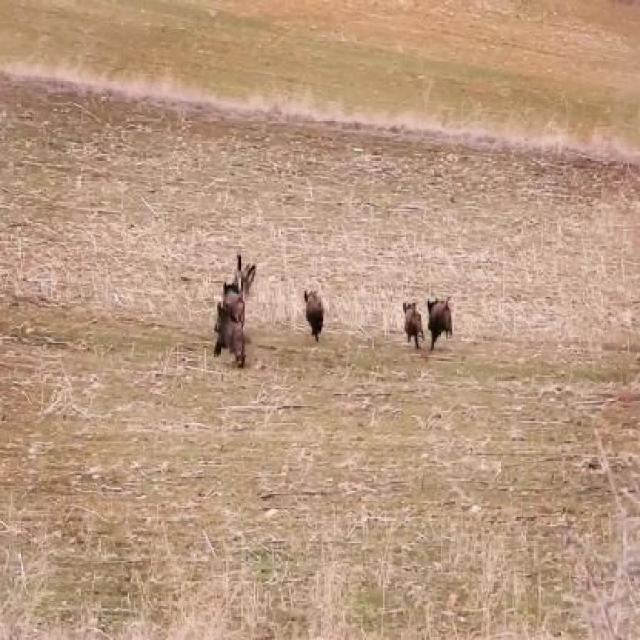pig: (206, 290, 258, 378), (292, 286, 340, 346), (424, 291, 458, 368), (397, 297, 429, 358)
